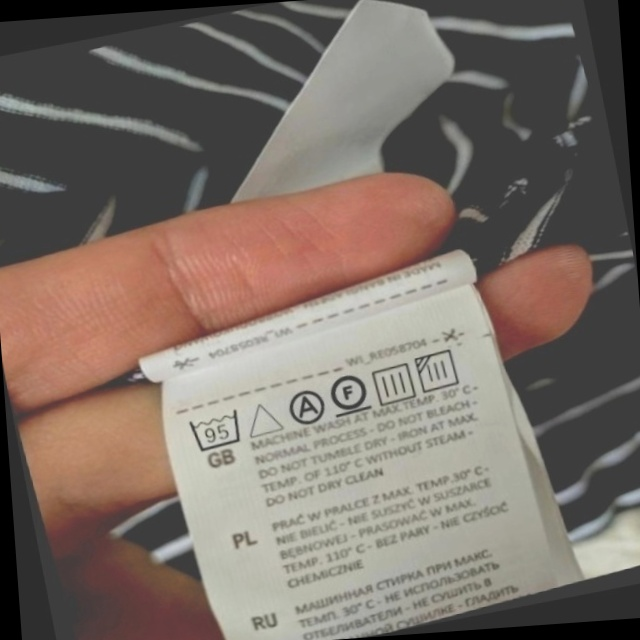95C: (184, 403, 250, 456)
bleach: (241, 393, 285, 443)
drip_dry: (367, 357, 421, 409)
drip_dry_in_shade: (412, 343, 467, 398)
dry_clean: (282, 384, 329, 430)
dry_clean_petrol_only: (324, 365, 374, 420)
